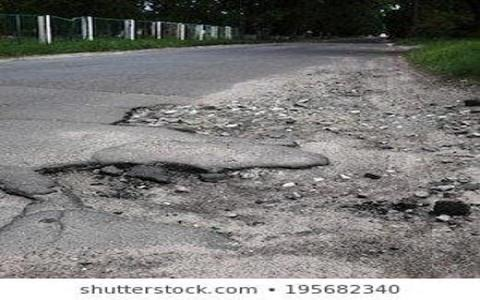patchy roads: (16, 57, 354, 237)
